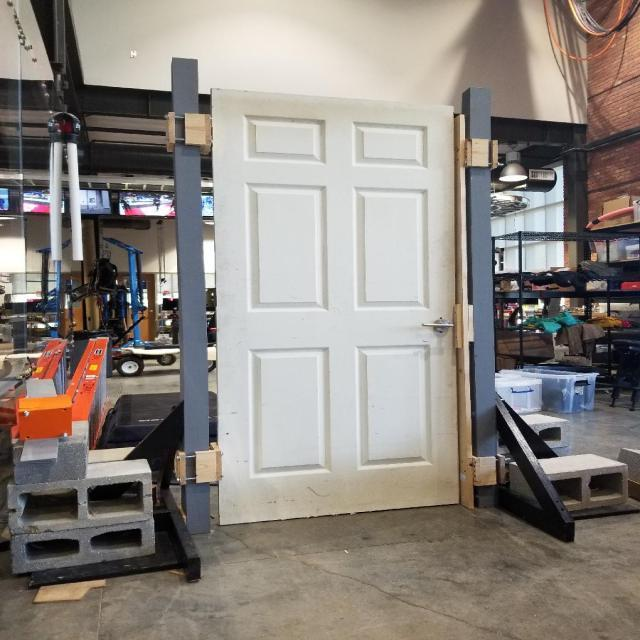door: (206, 86, 464, 530), (419, 315, 458, 335)
